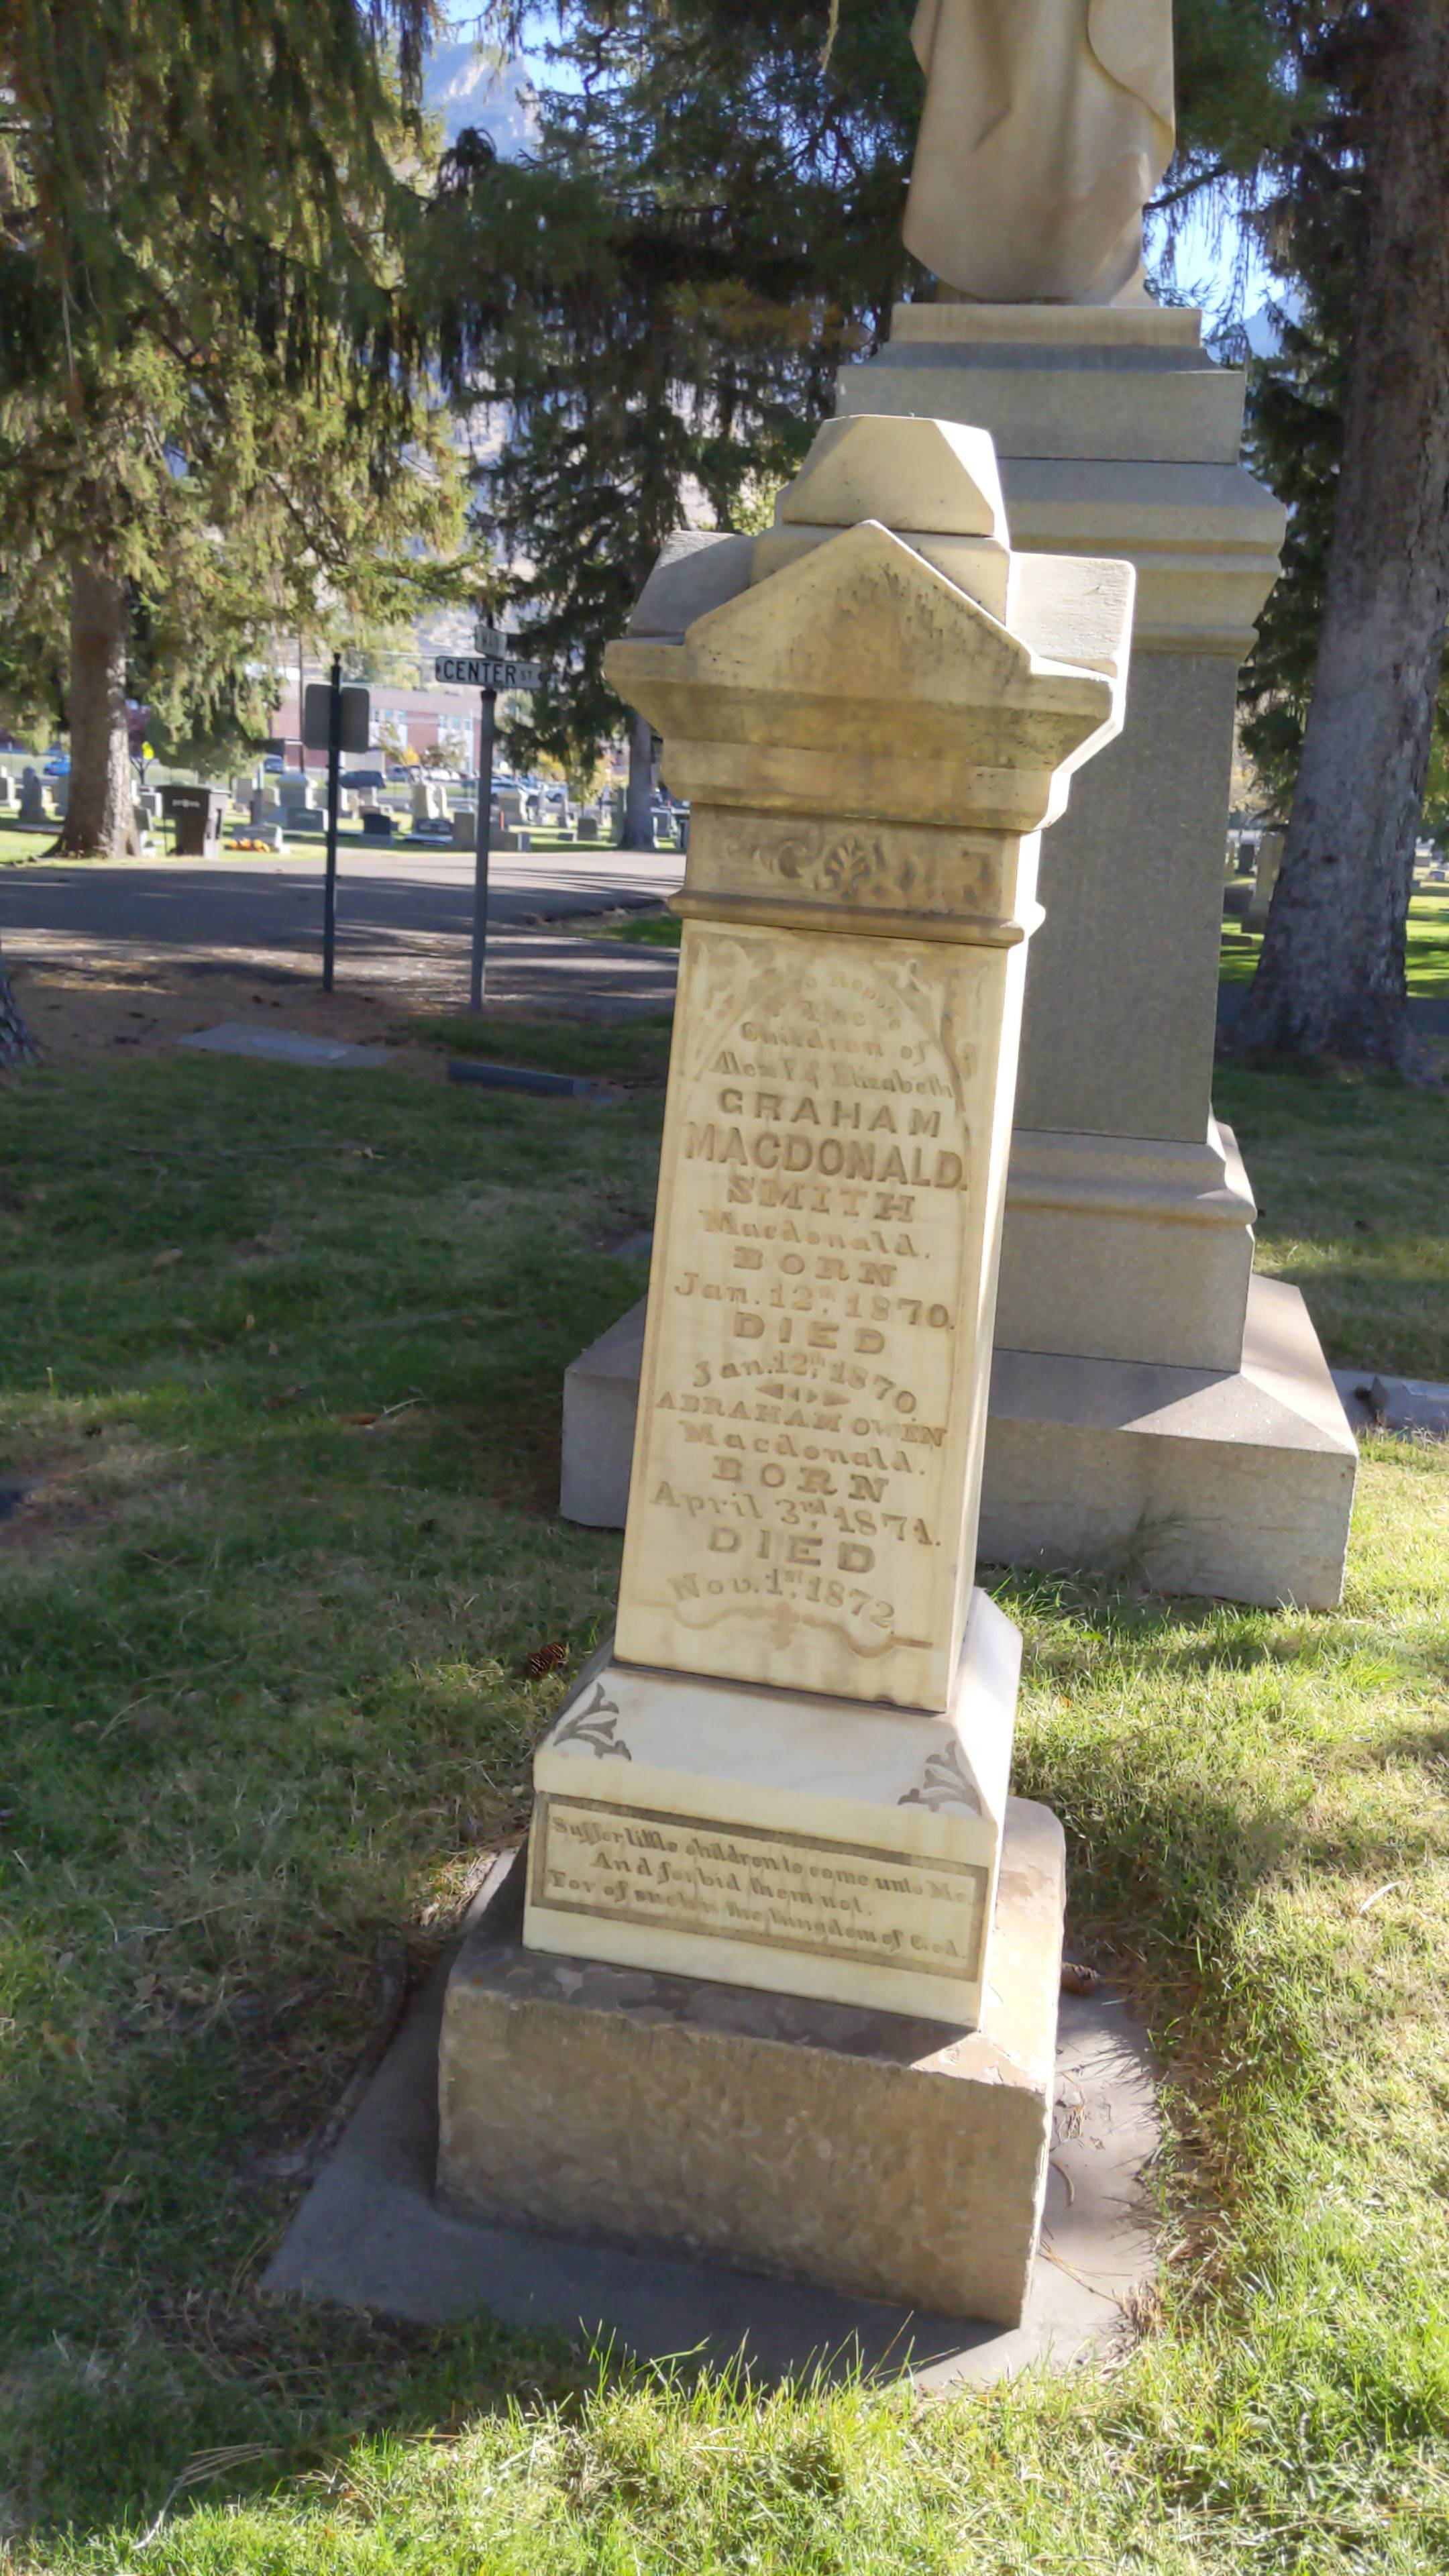obelisk: (525, 414, 1138, 2015)
